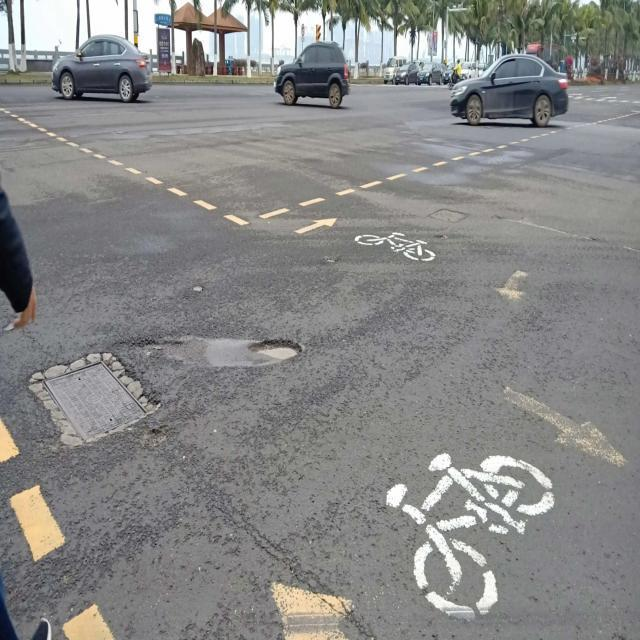Buraco: (246, 335, 307, 363)
